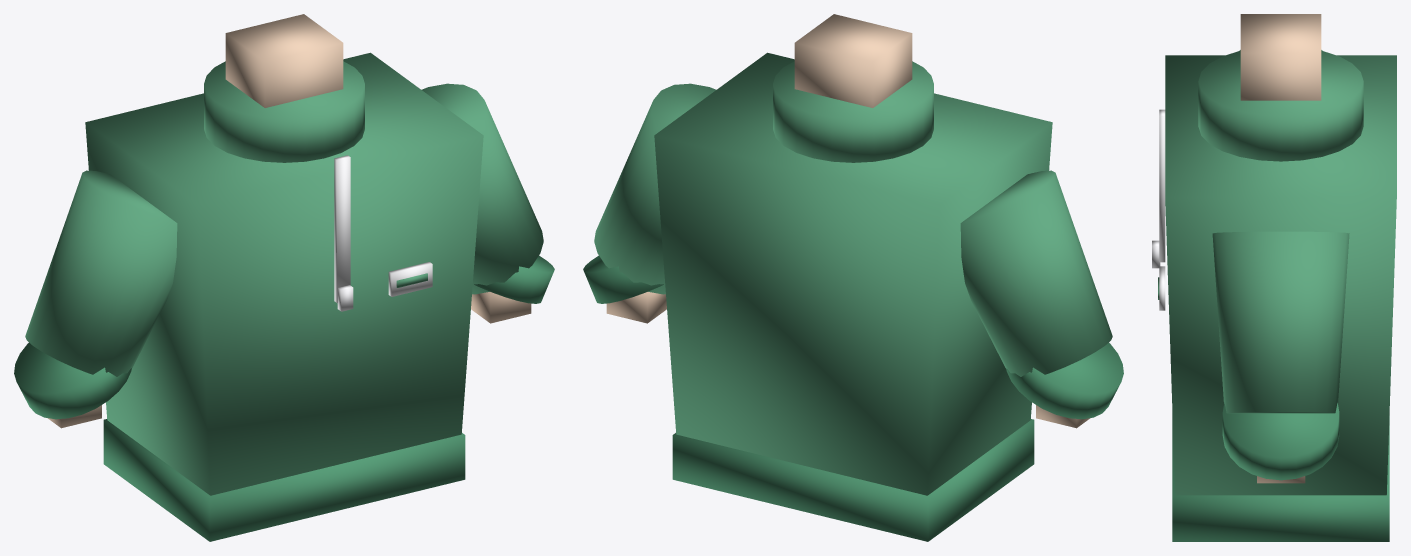
The model's file is row4_05_halfzip_green.glb.
3 renders of one model, left to right at view 1: azimuth 30°, elevation 25°; view 2: azimuth 150°, elevation 25°; view 3: azimuth 270°, elevation 25°, orthographic. The views are drawn at different scales.
Visible parts, largest first — view 1: Torso_05_halfzip_green, Sleeve_R_05_halfzip_green, Hem_05_halfzip_green, Collar_05_halfzip_green, Sleeve_L_05_halfzip_green, Neck_05_halfzip_green, Cuff_R_05_halfzip_green, HalfZip_05_halfzip_green, Cuff_L_05_halfzip_green, Wrist_L_05_halfzip_green, Patch_05_halfzip_green; view 2: Torso_05_halfzip_green, Sleeve_R_05_halfzip_green, Hem_05_halfzip_green, Collar_05_halfzip_green, Sleeve_L_05_halfzip_green, Neck_05_halfzip_green, Cuff_R_05_halfzip_green, Cuff_L_05_halfzip_green, Wrist_L_05_halfzip_green; view 3: Torso_05_halfzip_green, Sleeve_L_05_halfzip_green, Collar_05_halfzip_green, Hem_05_halfzip_green, Neck_05_halfzip_green, Cuff_L_05_halfzip_green, HalfZip_05_halfzip_green, Patch_05_halfzip_green.
Boxes of the visible parts, x1,y1,x2,y2 form: Torso_05_halfzip_green: [85, 52, 483, 495]; Sleeve_R_05_halfzip_green: [25, 170, 177, 376]; Hem_05_halfzip_green: [103, 419, 465, 541]; Collar_05_halfzip_green: [204, 61, 364, 162]; Sleeve_L_05_halfzip_green: [421, 83, 543, 294]; Neck_05_halfzip_green: [225, 14, 343, 107]; Cuff_R_05_halfzip_green: [14, 342, 131, 419]; HalfZip_05_halfzip_green: [334, 155, 350, 303]; Cuff_L_05_halfzip_green: [474, 255, 554, 303]; Wrist_L_05_halfzip_green: [471, 292, 531, 323]; Patch_05_halfzip_green: [388, 262, 432, 296]; Torso_05_halfzip_green: [654, 52, 1052, 495]; Sleeve_R_05_halfzip_green: [960, 170, 1112, 376]; Hem_05_halfzip_green: [672, 419, 1034, 541]; Collar_05_halfzip_green: [773, 61, 933, 162]; Sleeve_L_05_halfzip_green: [594, 83, 716, 294]; Neck_05_halfzip_green: [794, 14, 912, 107]; Cuff_R_05_halfzip_green: [1006, 342, 1123, 419]; Cuff_L_05_halfzip_green: [583, 255, 663, 303]; Wrist_L_05_halfzip_green: [606, 292, 666, 323]; Torso_05_halfzip_green: [1165, 55, 1396, 495]; Sleeve_L_05_halfzip_green: [1212, 231, 1349, 413]; Collar_05_halfzip_green: [1198, 50, 1363, 161]; Hem_05_halfzip_green: [1172, 413, 1389, 541]; Neck_05_halfzip_green: [1240, 14, 1321, 100]; Cuff_L_05_halfzip_green: [1222, 402, 1339, 480]; HalfZip_05_halfzip_green: [1159, 109, 1165, 262]; Patch_05_halfzip_green: [1159, 266, 1165, 310].
Size of the model in its own units: 0.6157 by 0.487 by 0.243.
